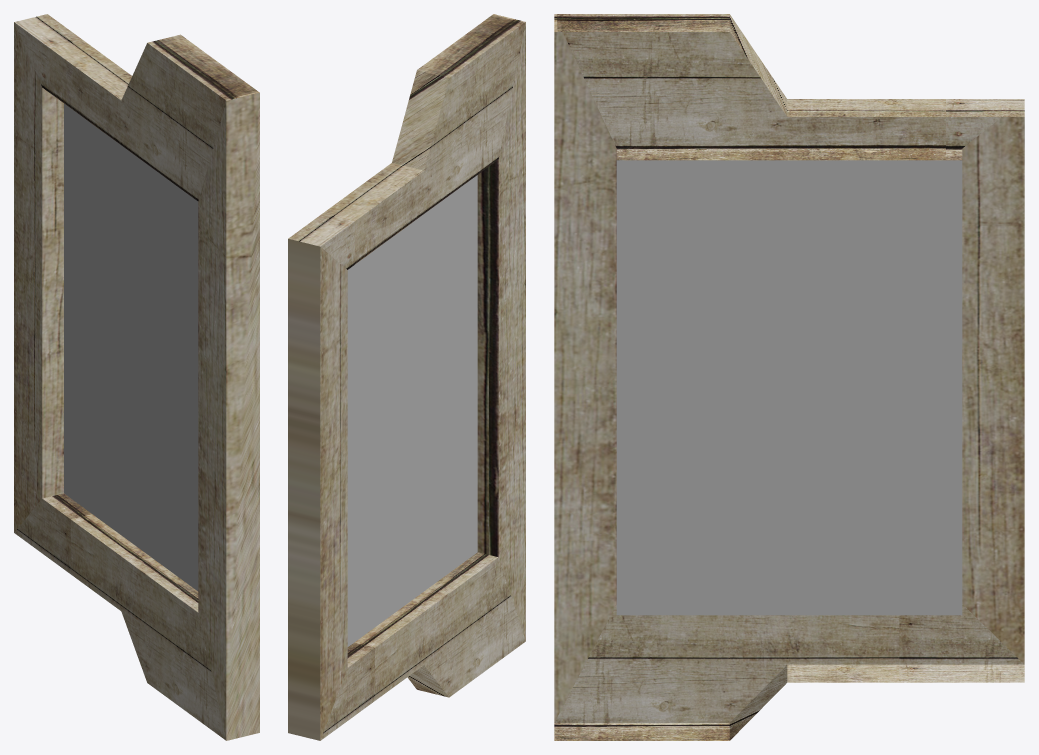
The model's file is Doorlrft.fbx.
3 views of the same model, side by side, from view 1: azimuth 30°, elevation 25°; view 2: azimuth 150°, elevation 25°; view 3: azimuth 270°, elevation 25° (orthographic). The views are drawn at different scales.
Parts seen in each view (by area): view 1: polySurface163; view 2: polySurface163; view 3: polySurface163.
Boxes of the visible parts, x1,y1,x2,y2 form: polySurface163: (14,14,259,740); polySurface163: (288,14,525,740); polySurface163: (554,14,1024,740).
Bounding box in the file's own units: 2.74 × 30.23 × 50.29.
